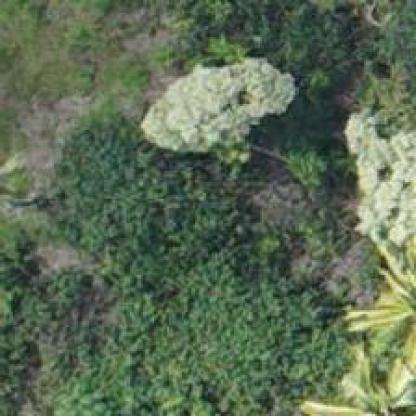coconut tree: (299, 232, 414, 414)
